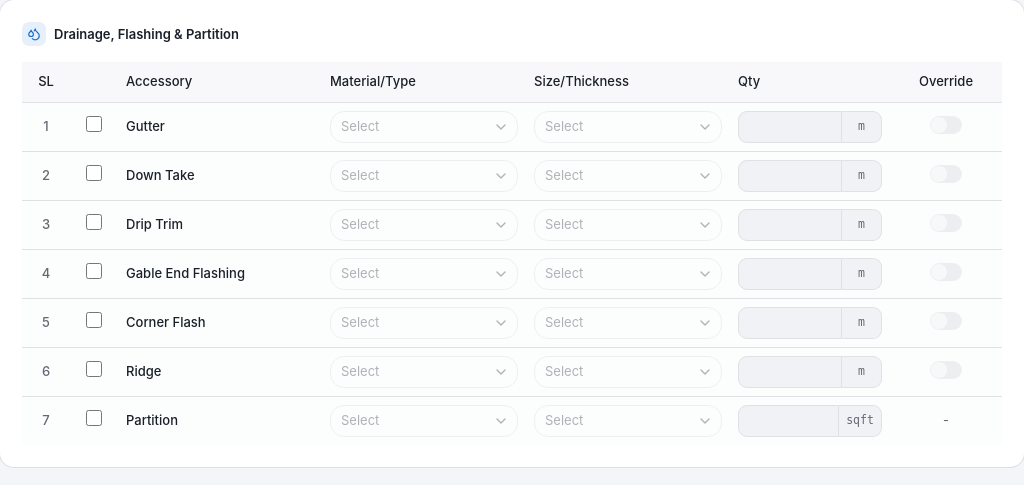
DrainageFlashingPartition › supports partition quantity
The width and height of the screenshot is (1024, 485).
Click the checkbox named "Include Partition".
click(94, 418)  # box [86,410,102,426]
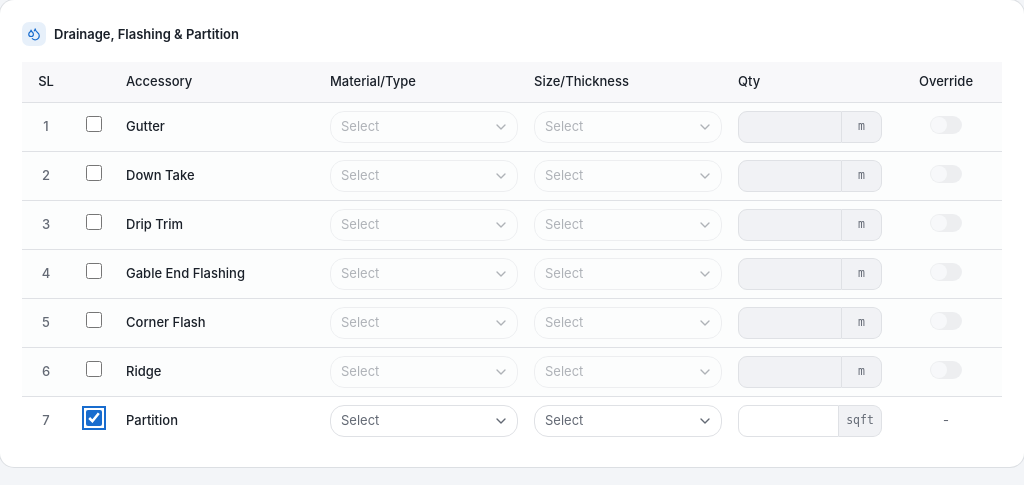
Expected: the dropdown named "Partition material" is enabled, [330,404,518,436]
Expected: the dropdown named "Partition size" is enabled, [534,404,722,436]
